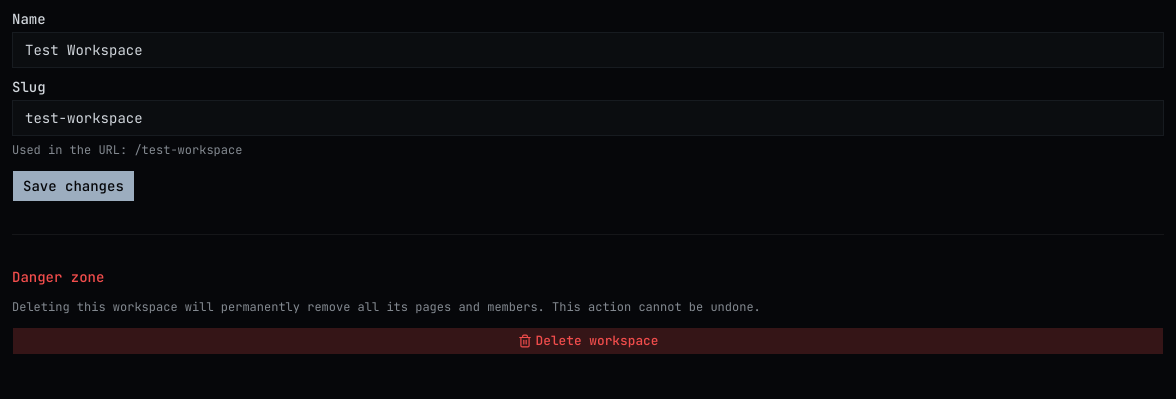
Scenario: WorkspaceSettingsForm › shows duplicate key error when slug is already taken
Step 1. Replace the text in the field labelled "Slug" with "taken-slug" → (588, 118), box x1=12 y1=100 x2=1164 y2=136
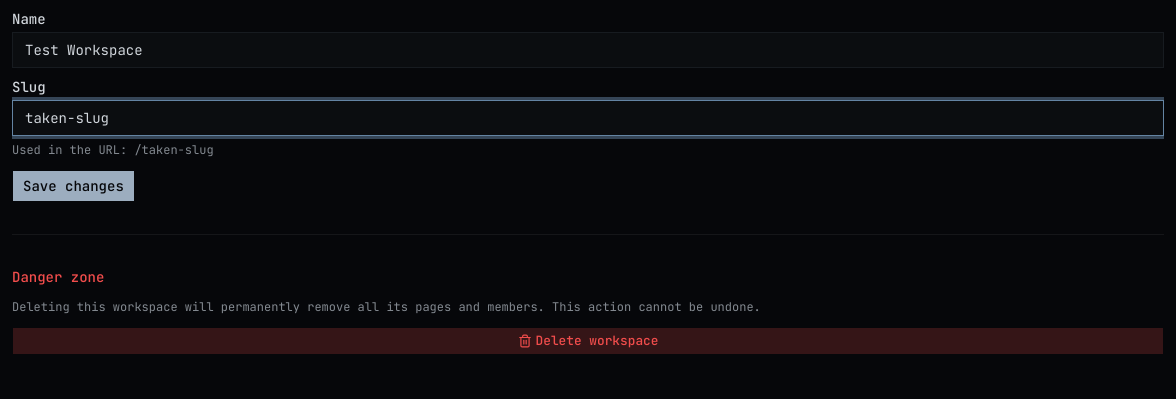
Step 2. Click the button "Save changes" → (73, 186), box x1=12 y1=170 x2=135 y2=202
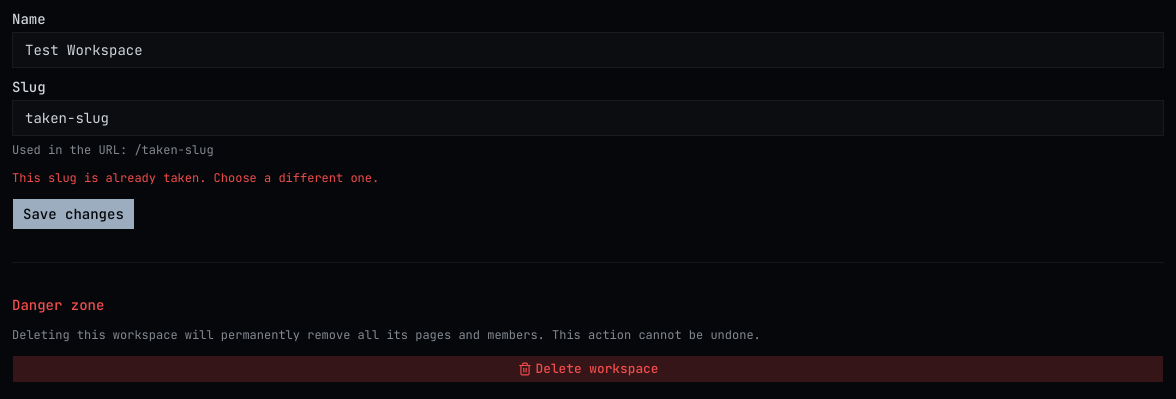
Result: the text "This slug is already taken. Choose a different one." is shown at x1=12 y1=170 x2=379 y2=186
